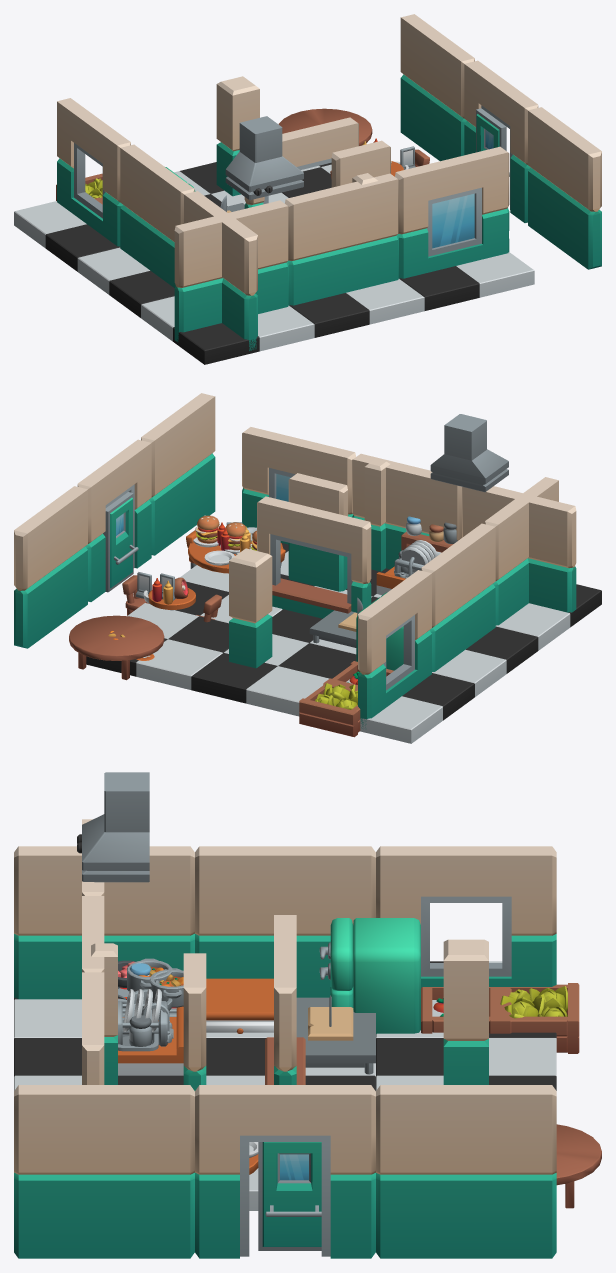
Rendered from restaurant_level.glb.
3 renders of one model, top to bottom at view 1: azimuth 30°, elevation 25°; view 2: azimuth 150°, elevation 25°; view 3: azimuth 270°, elevation 25°, orthographic. The views are drawn at different scales.
Visible parts, largest first — view 1: wall_window_closed, wall.001, wall.004, wall, wall.005, wall_window_open, wall.003, floor_kitchen, wall_doorway, wall.002, extractorhood, floor_kitchen.003 (+10 smaller); view 2: wall.005, wall_orderwindow, wall.004, wall_window_open, wall.003, floor_kitchen.005, wall, wall_window_closed, wall_doorway, wall.001, floor_kitchen.008, pillar_B (+22 smaller); view 3: wall.004, wall.005, wall_doorway, wall.003, wall.002, wall_window_open, fridge_A_decorated, door_A, pillar_B, extractorhood, floor_kitchen.005, wall_orderwindow (+20 smaller).
Part boxes in pixels (<box>): wall_window_closed: <box>395,146,509,278</box>; wall.001: <box>285,173,398,305</box>; wall.004: <box>528,107,601,269</box>; wall: <box>174,200,288,342</box>; wall.005: <box>400,14,474,161</box>; wall_window_open: <box>57,98,130,246</box>; wall.003: <box>120,144,194,287</box>; floor_kitchen: <box>141,296,314,364</box>; wall_doorway: <box>464,60,538,222</box>; wall.002: <box>184,191,257,350</box>; extractorhood: <box>225,116,303,200</box>; floor_kitchen.003: <box>289,279,424,337</box>; wall.005: <box>14,486,87,648</box>; wall_orderwindow: <box>257,496,371,618</box>; wall.004: <box>141,393,215,555</box>; wall_window_open: <box>358,570,431,728</box>; wall.003: <box>421,523,495,671</box>; floor_kitchen.005: <box>191,634,356,716</box>; wall: <box>462,486,576,612</box>; wall_window_closed: <box>242,427,355,544</box>; wall_doorway: <box>77,439,151,601</box>; wall.001: <box>352,453,461,569</box>; floor_kitchen.008: <box>86,603,228,689</box>; pillar_B: <box>229,548,272,668</box>; wall.004: <box>14,1085,194,1258</box>; wall.005: <box>376,1085,556,1258</box>; wall_doorway: <box>195,1085,375,1258</box>; wall.003: <box>195,846,375,997</box>; wall.002: <box>14,846,194,999</box>; wall_window_open: <box>376,846,556,987</box>; fridge_A_decorated: <box>353,918,420,1033</box>; door_A: <box>258,1142,321,1250</box>; pillar_B: <box>443,939,488,1084</box>; extractorhood: <box>77,772,149,882</box>; floor_kitchen.005: <box>376,1038,556,1090</box>; wall_orderwindow: <box>265,915,305,1084</box>.
Size of the model in its own units: 14.5 by 6.5 by 13.
Materials: 57 (57 with a texture image).
